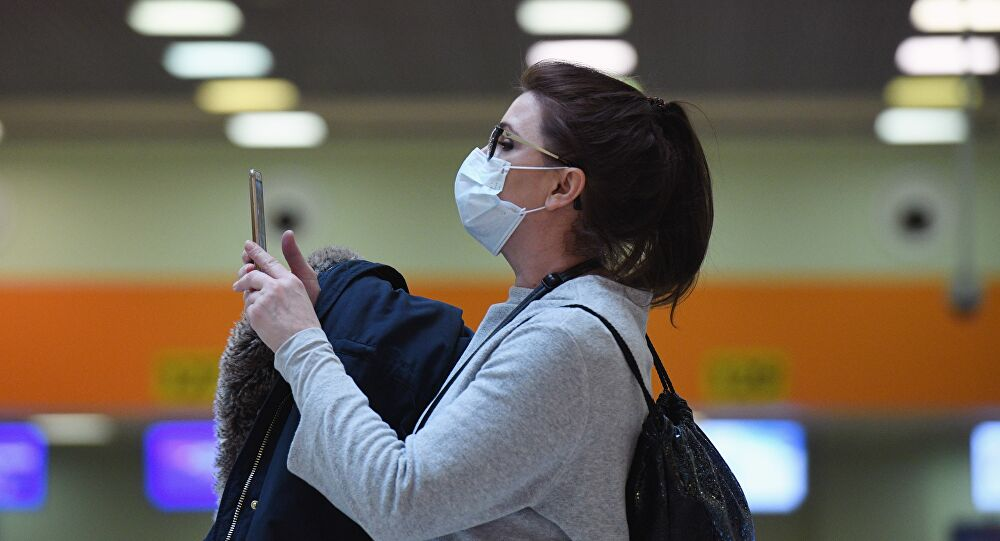with_mask: (447, 81, 606, 284)
